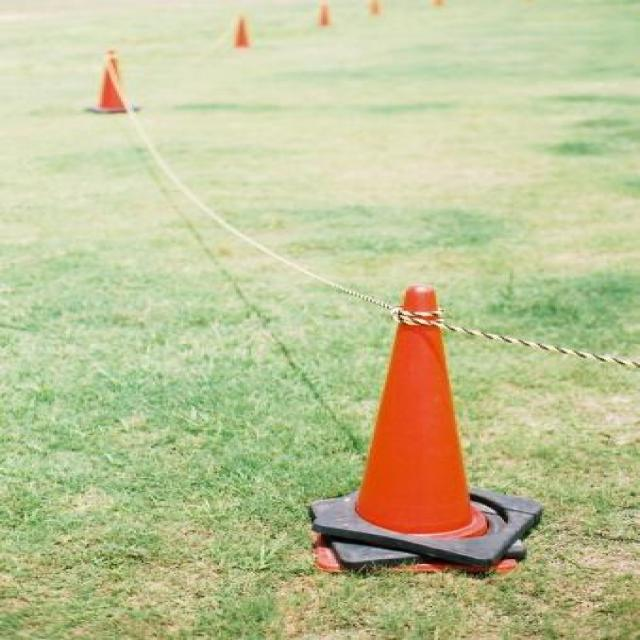Cone: (317, 288, 538, 576), (89, 46, 140, 118), (232, 13, 251, 48), (316, 2, 330, 26), (368, 2, 387, 16)
